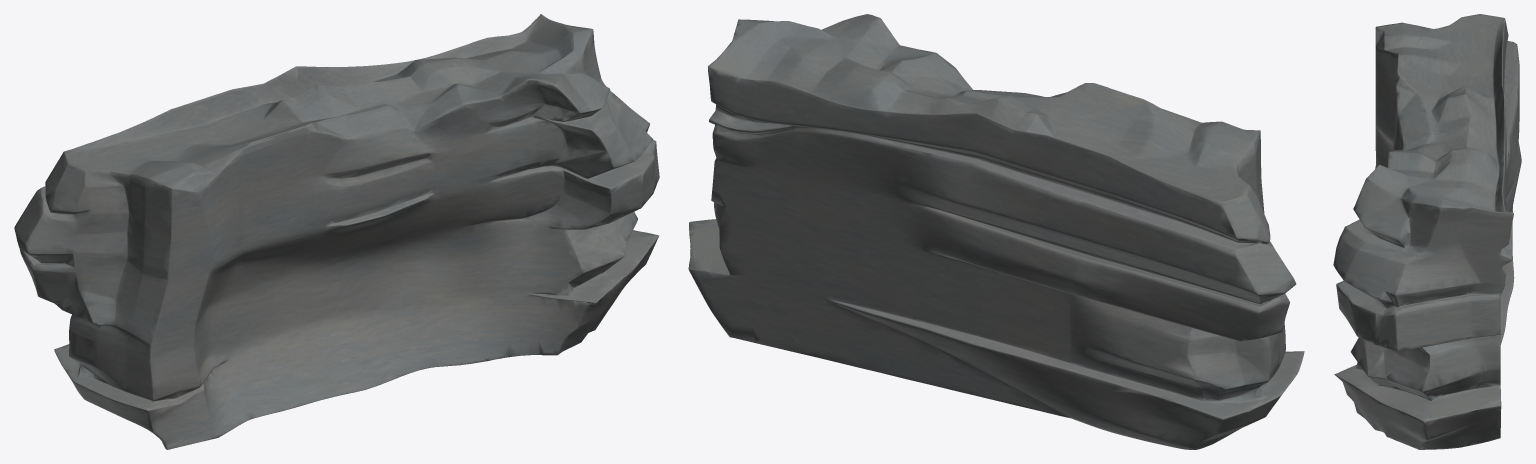
3 renders of one model, left to right at view 1: azimuth 30°, elevation 25°; view 2: azimuth 150°, elevation 25°; view 3: azimuth 270°, elevation 25°, orthographic. The views are drawn at different scales.
Visible parts, largest first — view 1: node_0; view 2: node_0; view 3: node_0.
Part boxes in pixels (left/top/right/bottom): node_0: left=14, top=14, right=659, bottom=449; node_0: left=688, top=14, right=1304, bottom=449; node_0: left=1333, top=14, right=1521, bottom=449.
Bounding box in the file's own units: 1.17 × 0.5086 × 0.3538.
Materials: 1 (1 with a texture image).
